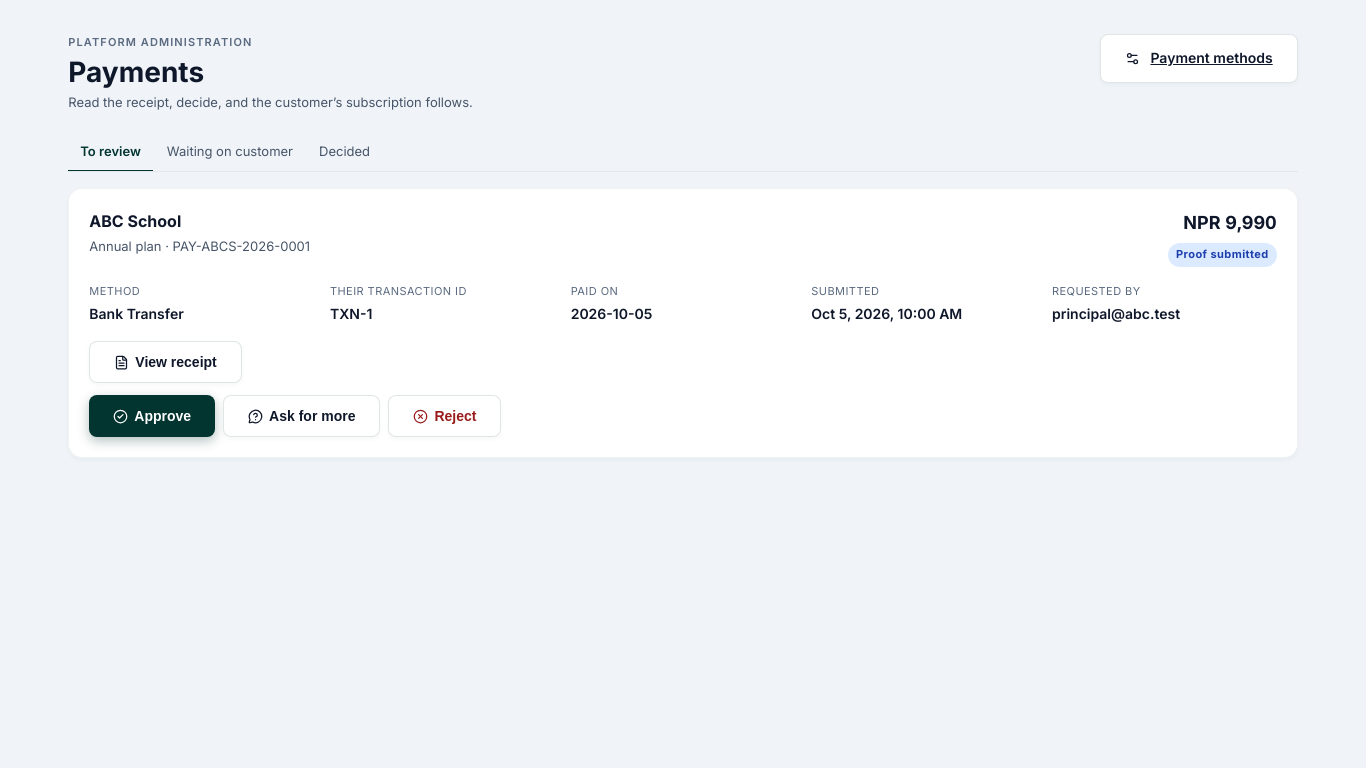
Test case: the payment center › approves in one confirmed step and says what happened
Click the button "Approve". click: (152, 416)
box: [89, 395, 215, 437]
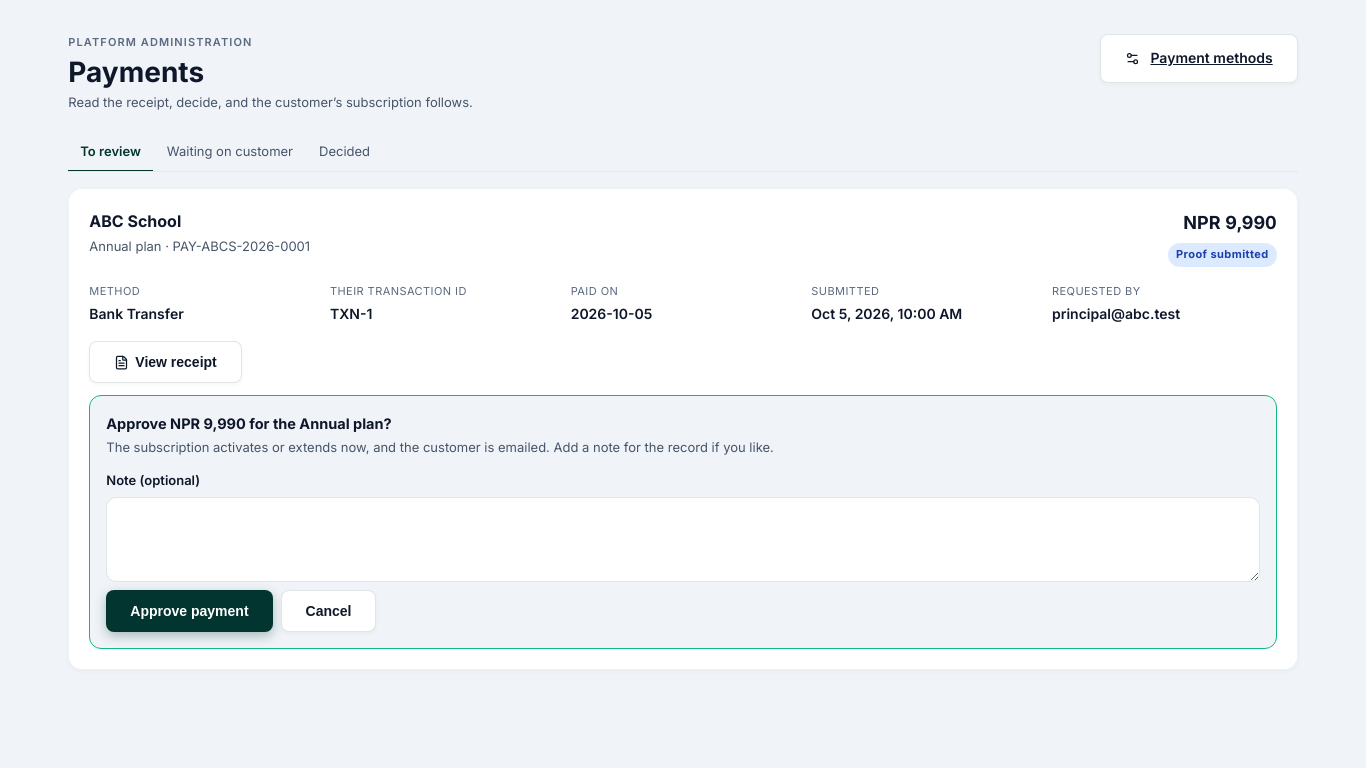
Click the button "Approve payment". click: (189, 611)
box: [106, 590, 273, 632]
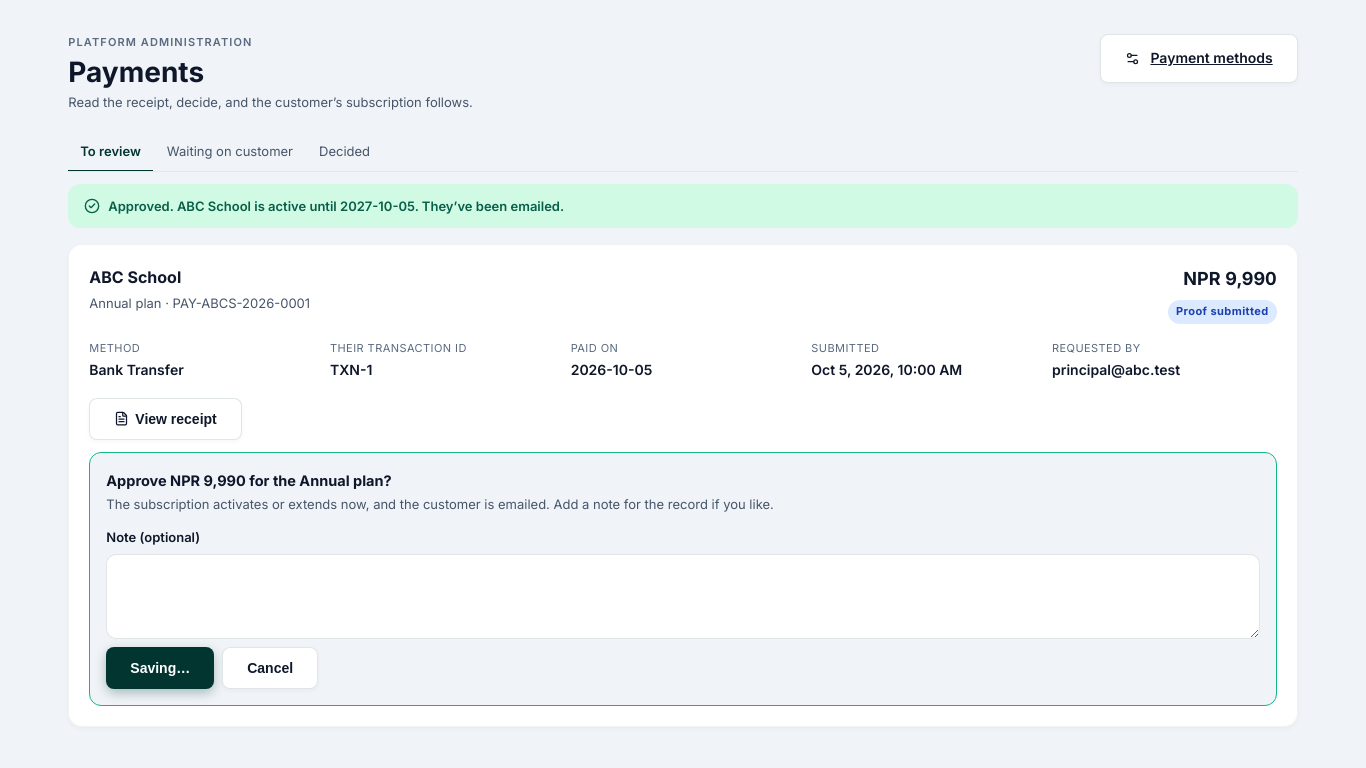
Expected: the message shows "active until 2027-10-05", [108, 198, 564, 214]
